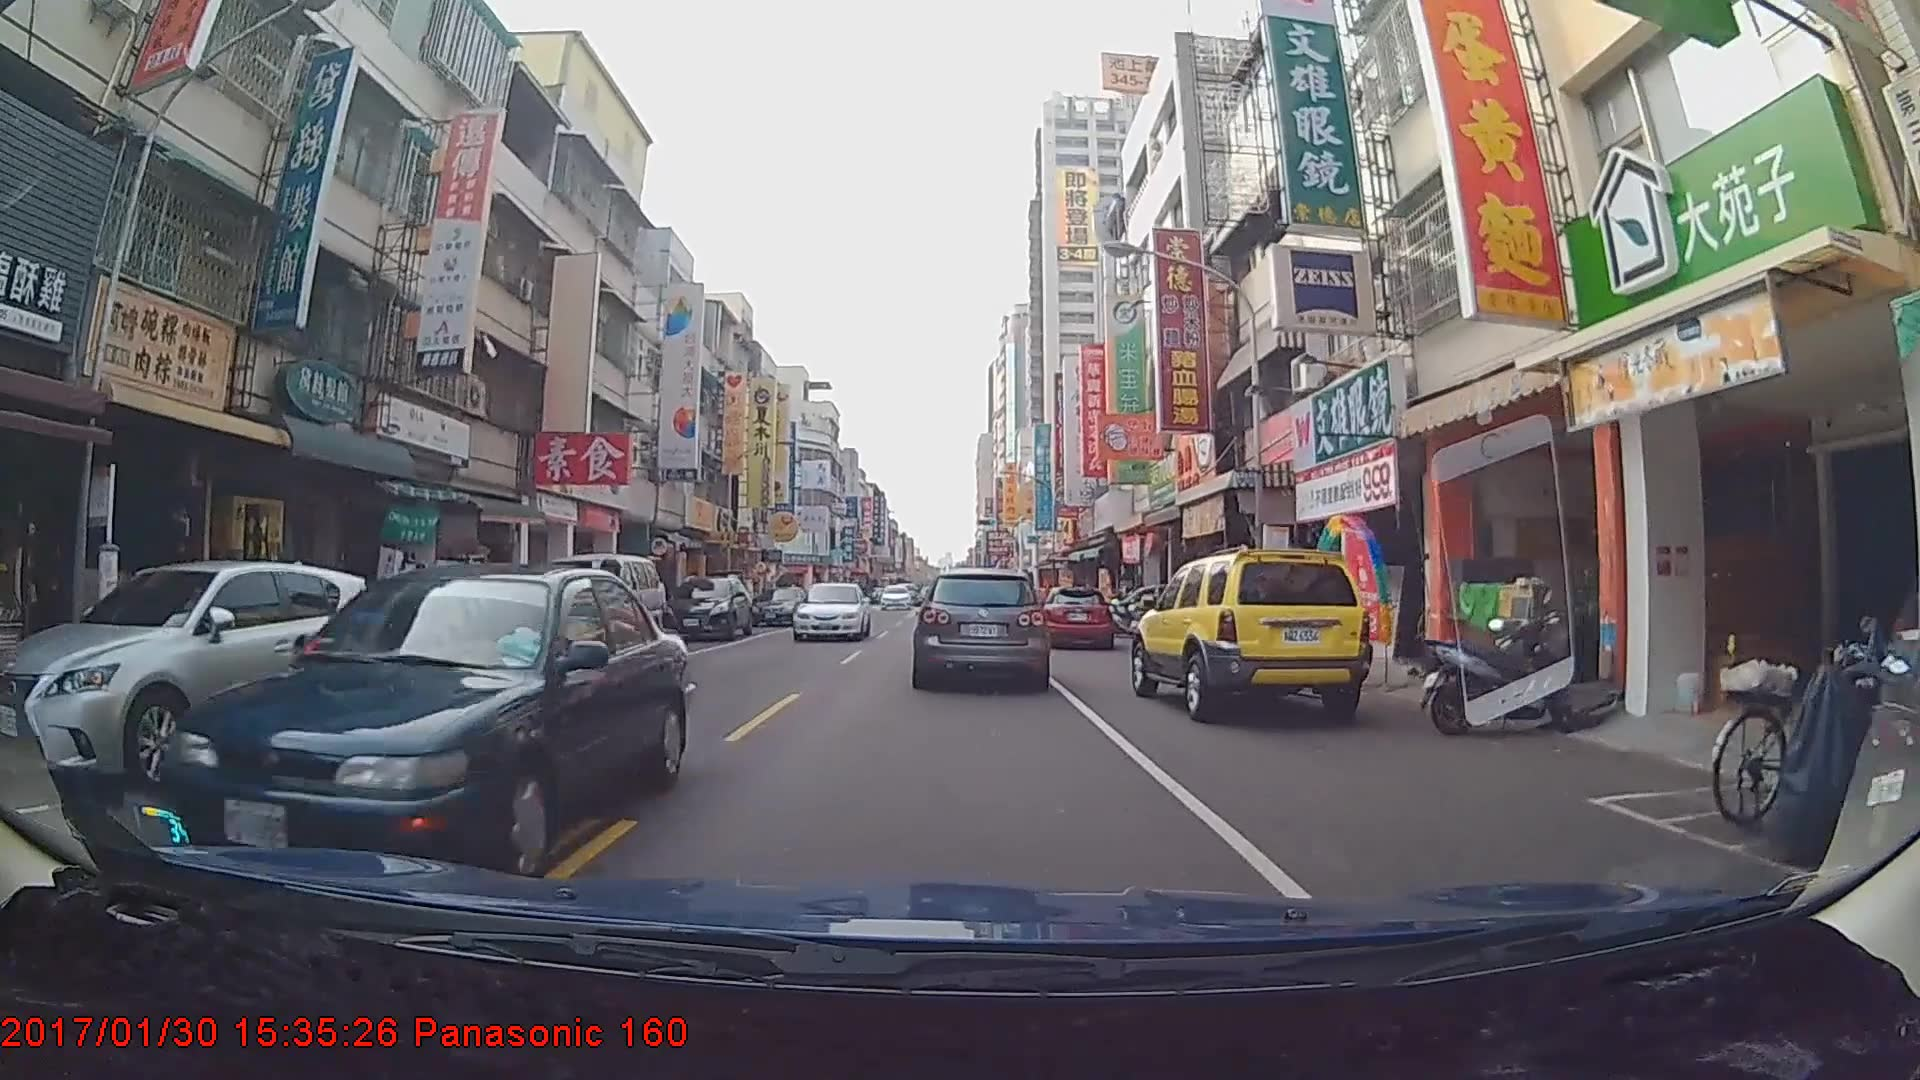vehicle: (157, 562, 686, 889), (7, 558, 394, 789), (1134, 543, 1371, 721), (914, 567, 1048, 688), (527, 553, 661, 663), (657, 576, 752, 641), (1036, 587, 1116, 650), (790, 580, 872, 641), (750, 587, 810, 628), (880, 585, 913, 611)
